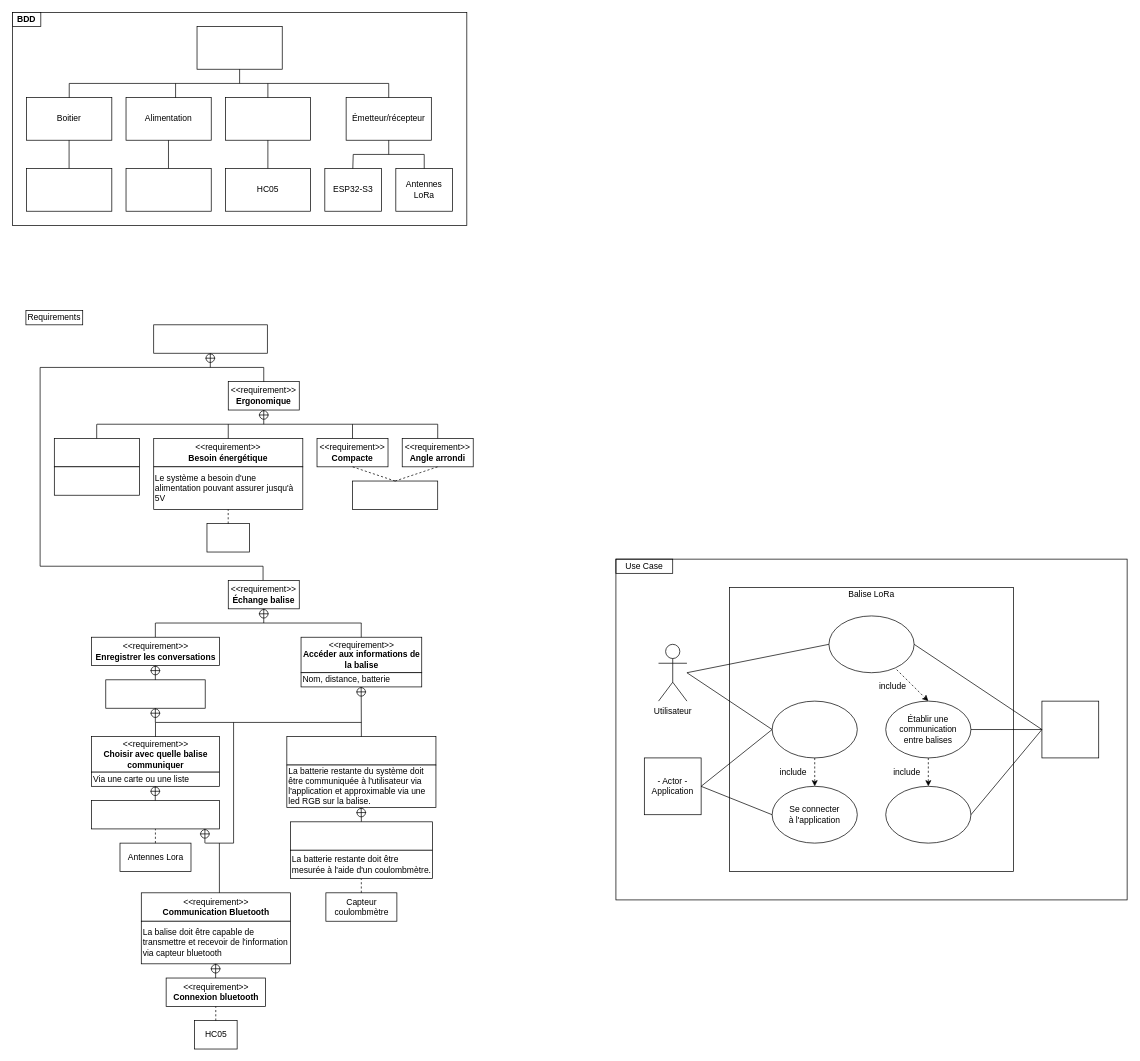
Some shapes in this 1140 by 1061 pixel diagram are drawn without their labels. Each missing label, with the box of its shape:
- Actor - Autre(s) balise(s): (1041, 700, 1099, 758)
<<requirement>> Autonomie lisible: (286, 736, 436, 765)
<<requirement>> Autonomie mesurable: (290, 821, 432, 850)
<<requirement>> Déploiement rapide: (54, 438, 140, 467)
<<requirement>> Exigences Balise LoRa: (153, 324, 267, 353)
<<requirement>> Localiser les balises alentours: (91, 800, 219, 829)
<<requirement>> Échange de messages: (105, 679, 205, 708)
Boitier de la balise: (352, 480, 438, 509)
Communication full duplex: (828, 615, 914, 673)
Connectivité: (225, 97, 311, 140)
Consulter l'état de la balise: (771, 700, 857, 758)
Doit être déployable en moins de 5 min: (54, 466, 140, 495)
La balise: (196, 26, 282, 69)
LED: (26, 168, 112, 211)
Piles: (206, 523, 250, 552)
Repérer les balises aux alentours: (885, 786, 971, 843)
